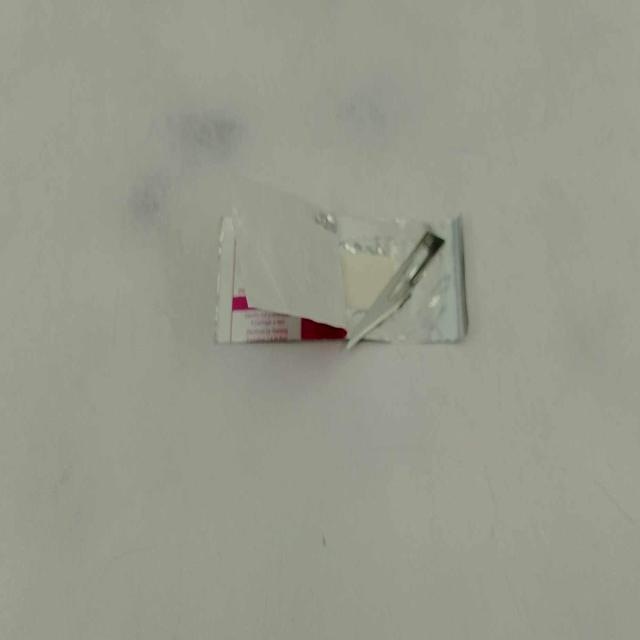General: (212, 183, 470, 350)
Sharps: (346, 229, 447, 350)
